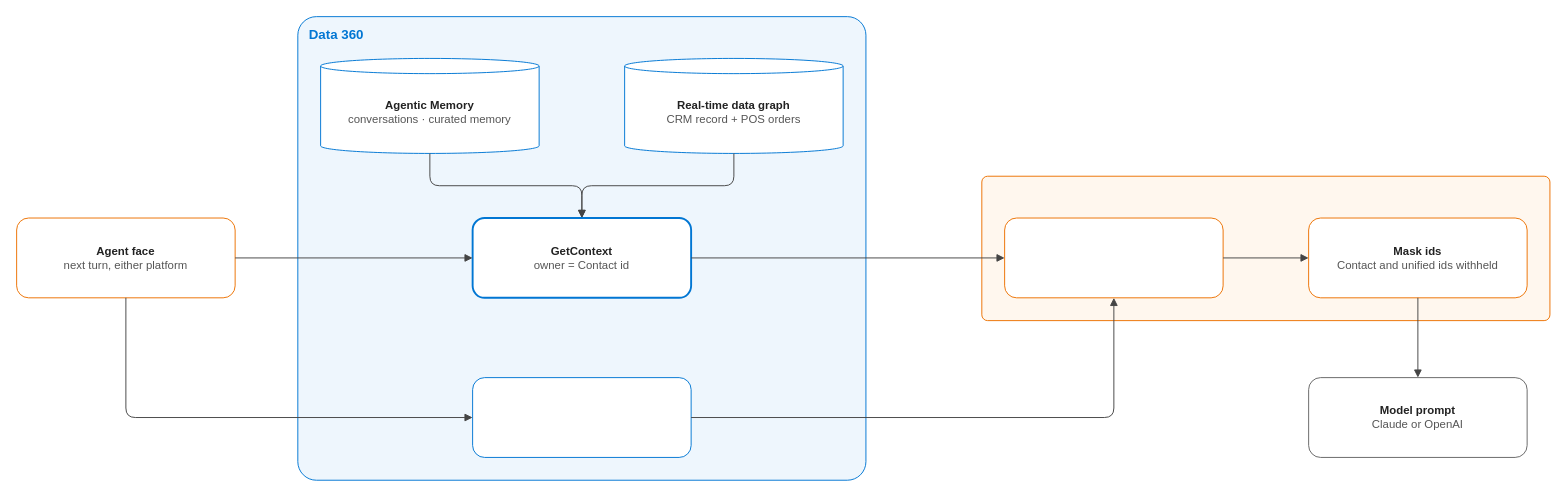
The diagram is 1567 pixels wide and 497 high, and some of its shapes have lost their labels. The shapes that lost their labels are listed below. From the top down, each one's box as (x1, y1, x2, y2) in pixels, then its label:
(1004, 217, 1223, 298): render_context graph record first · 4000-char budget
(981, 175, 1550, 321): Agent face · AWS us-east-1
(472, 377, 691, 457): Memory API facts and preferences reads
